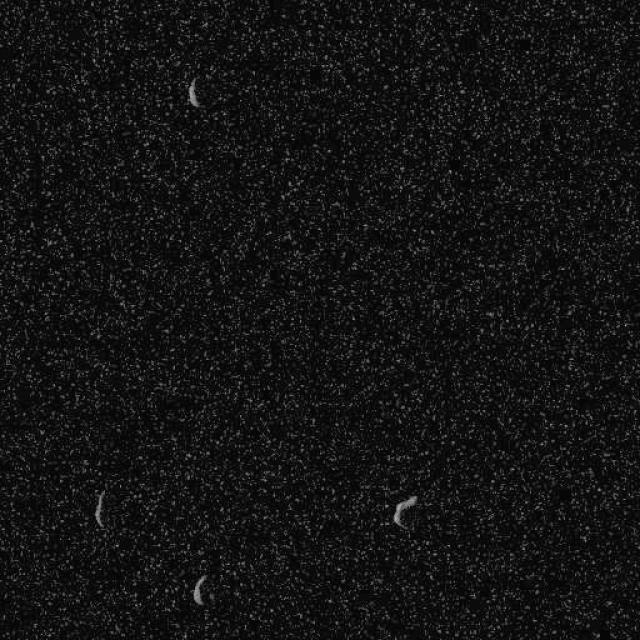D2: (392, 494, 418, 528), (92, 488, 106, 528), (192, 572, 208, 606), (186, 76, 202, 108)
